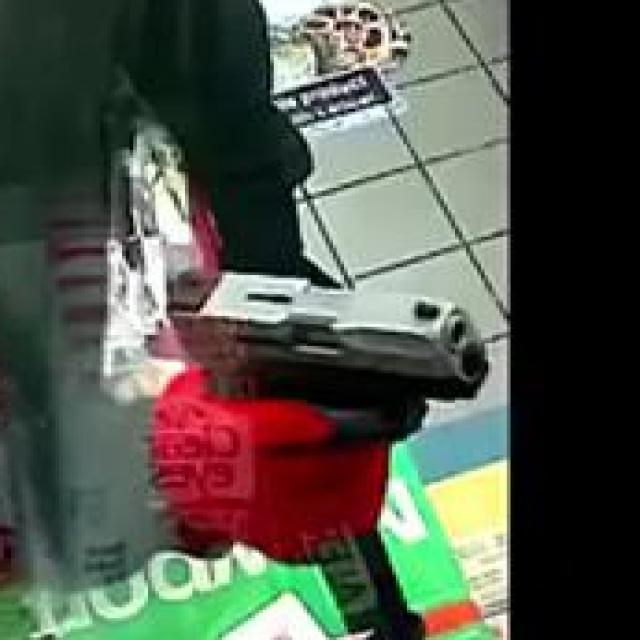Guns: (147, 244, 498, 573)
